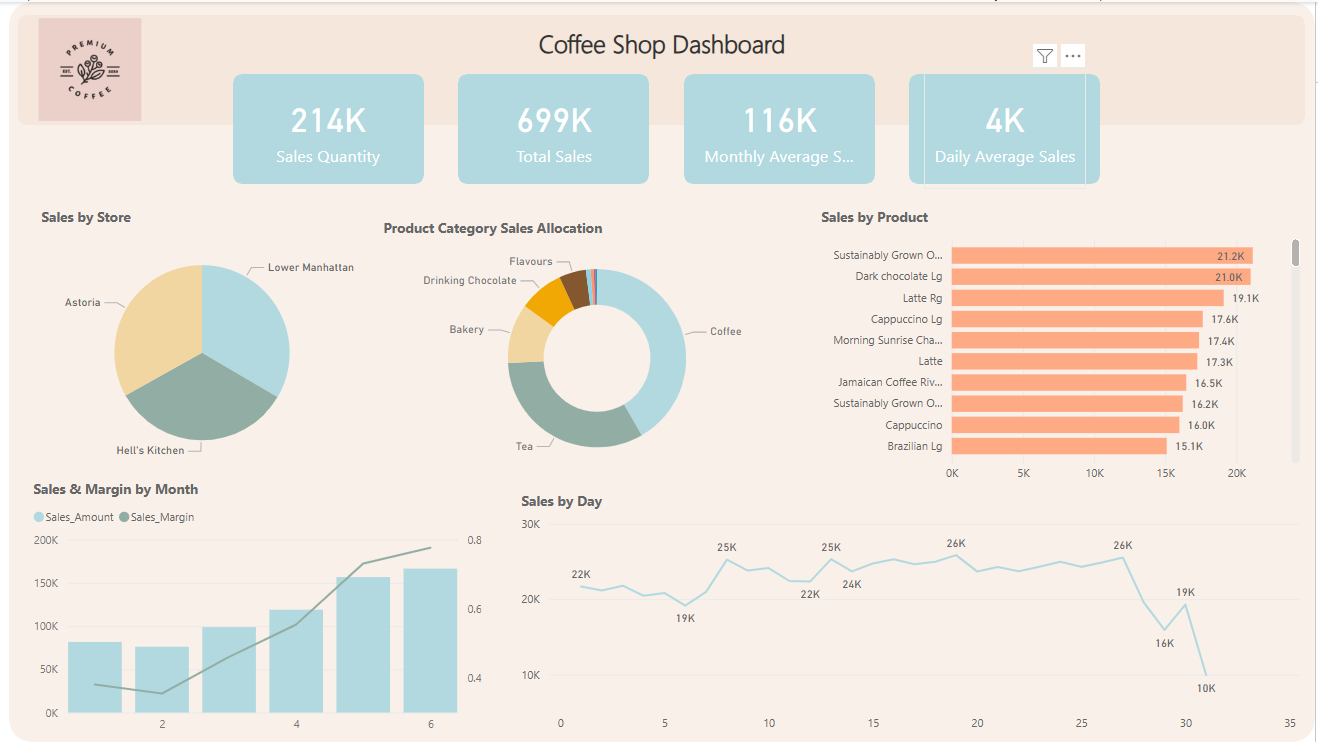

Layout of this report page (visuals, bound fields, positions):
{"tool":"powerbi","page":{"name":"Page 1","canvas":[1280,720],"ordinal":0},"visuals":[{"type":"shape","box":[9.7,0,1270.3,719.8],"z":0},{"type":"shape","box":[18.5,12.6,1251.8,107],"z":1000},{"type":"shape","box":[227.6,70,185.8,107],"z":2000},{"type":"shape","box":[446.8,70,185.8,107],"z":3000},{"type":"shape","box":[665.9,70,185.8,107],"z":4000},{"type":"shape","box":[885.1,70,185.8,107],"z":5000},{"type":"card","fields":{"Values":["Calculations.Sales_Quantity"]},"box":[241.2,64.2,157.6,117.7],"z":6000},{"type":"card","fields":{"Values":["Calculations.Sales_Amount"]},"box":[461,64.2,157.6,117.7],"z":7000},{"type":"card","fields":{"Values":["Calculations.Monthly_Average_Sales"]},"box":[679.9,64.2,157.6,117.7],"z":8000},{"type":"card","fields":{"Values":["Calculations.Daily_Average_Sales"]},"box":[899.7,64.2,157.6,117.7],"z":9000},{"type":"textbox","box":[495.1,18.5,299.6,61.3],"z":10000},{"type":"donutChart","title":"Product Category Sales Allocation","fields":{"Y":["Sum(Transactions.transaction_qty)"],"Category":["Transactions.product_category"]},"box":[368.6,211.1,426,253.9],"z":11000},{"type":"pieChart","title":"Sales by Store","fields":{"Category":["Transactions.store_location"],"Y":["Sum(Transactions.transaction_qty)"]},"box":[36,200.4,322.9,264.6],"z":12000},{"type":"lineStackedColumnComboChart","title":"Sales & Margin by Month","fields":{"Y":["Calculations.Sales_Amount"],"Y2":["Calculations.Sales_Margin"],"Category":["Calendar.Month"]},"box":[28.2,464.9,446.4,254.8],"z":13000},{"type":"clusteredBarChart","title":"Sales by Product","fields":{"Y":["Calculations.Sales_Amount"],"Category":["Transactions.product_detail"]},"box":[794.7,200.4,475.6,276.2],"z":14000},{"type":"lineChart","title":"Sales by Day","fields":{"Y":["Calculations.Sales_Amount"],"Category":["Calendar.Day"]},"box":[502.9,476.6,767.4,243.2],"z":15000},{"type":"image","box":[18.5,10.7,139.1,109.9],"z":15001}]}

Visuals, with their boxes in screenshot pixels (x1, y1, x2, y2), scaled from the page's 1280x720 canvas onto the 1318x742 screenshot:
shape: (x1=10, y1=0, x2=1317, y2=741)
shape: (x1=19, y1=13, x2=1308, y2=123)
shape: (x1=234, y1=72, x2=426, y2=182)
shape: (x1=460, y1=72, x2=651, y2=182)
shape: (x1=686, y1=72, x2=877, y2=182)
shape: (x1=911, y1=72, x2=1103, y2=182)
card - Calculations.Sales_Quantity: (x1=248, y1=66, x2=411, y2=187)
card - Calculations.Sales_Amount: (x1=475, y1=66, x2=637, y2=187)
card - Calculations.Monthly_Average_Sales: (x1=700, y1=66, x2=862, y2=187)
card - Calculations.Daily_Average_Sales: (x1=926, y1=66, x2=1089, y2=187)
textbox: (x1=510, y1=19, x2=818, y2=82)
"Product Category Sales Allocation" donutChart: (x1=380, y1=218, x2=818, y2=479)
"Sales by Store" pieChart: (x1=37, y1=207, x2=370, y2=479)
"Sales & Margin by Month" lineStackedColumnComboChart: (x1=29, y1=479, x2=489, y2=741)
"Sales by Product" clusteredBarChart: (x1=818, y1=207, x2=1308, y2=491)
"Sales by Day" lineChart: (x1=518, y1=491, x2=1308, y2=741)
image: (x1=19, y1=11, x2=162, y2=124)
